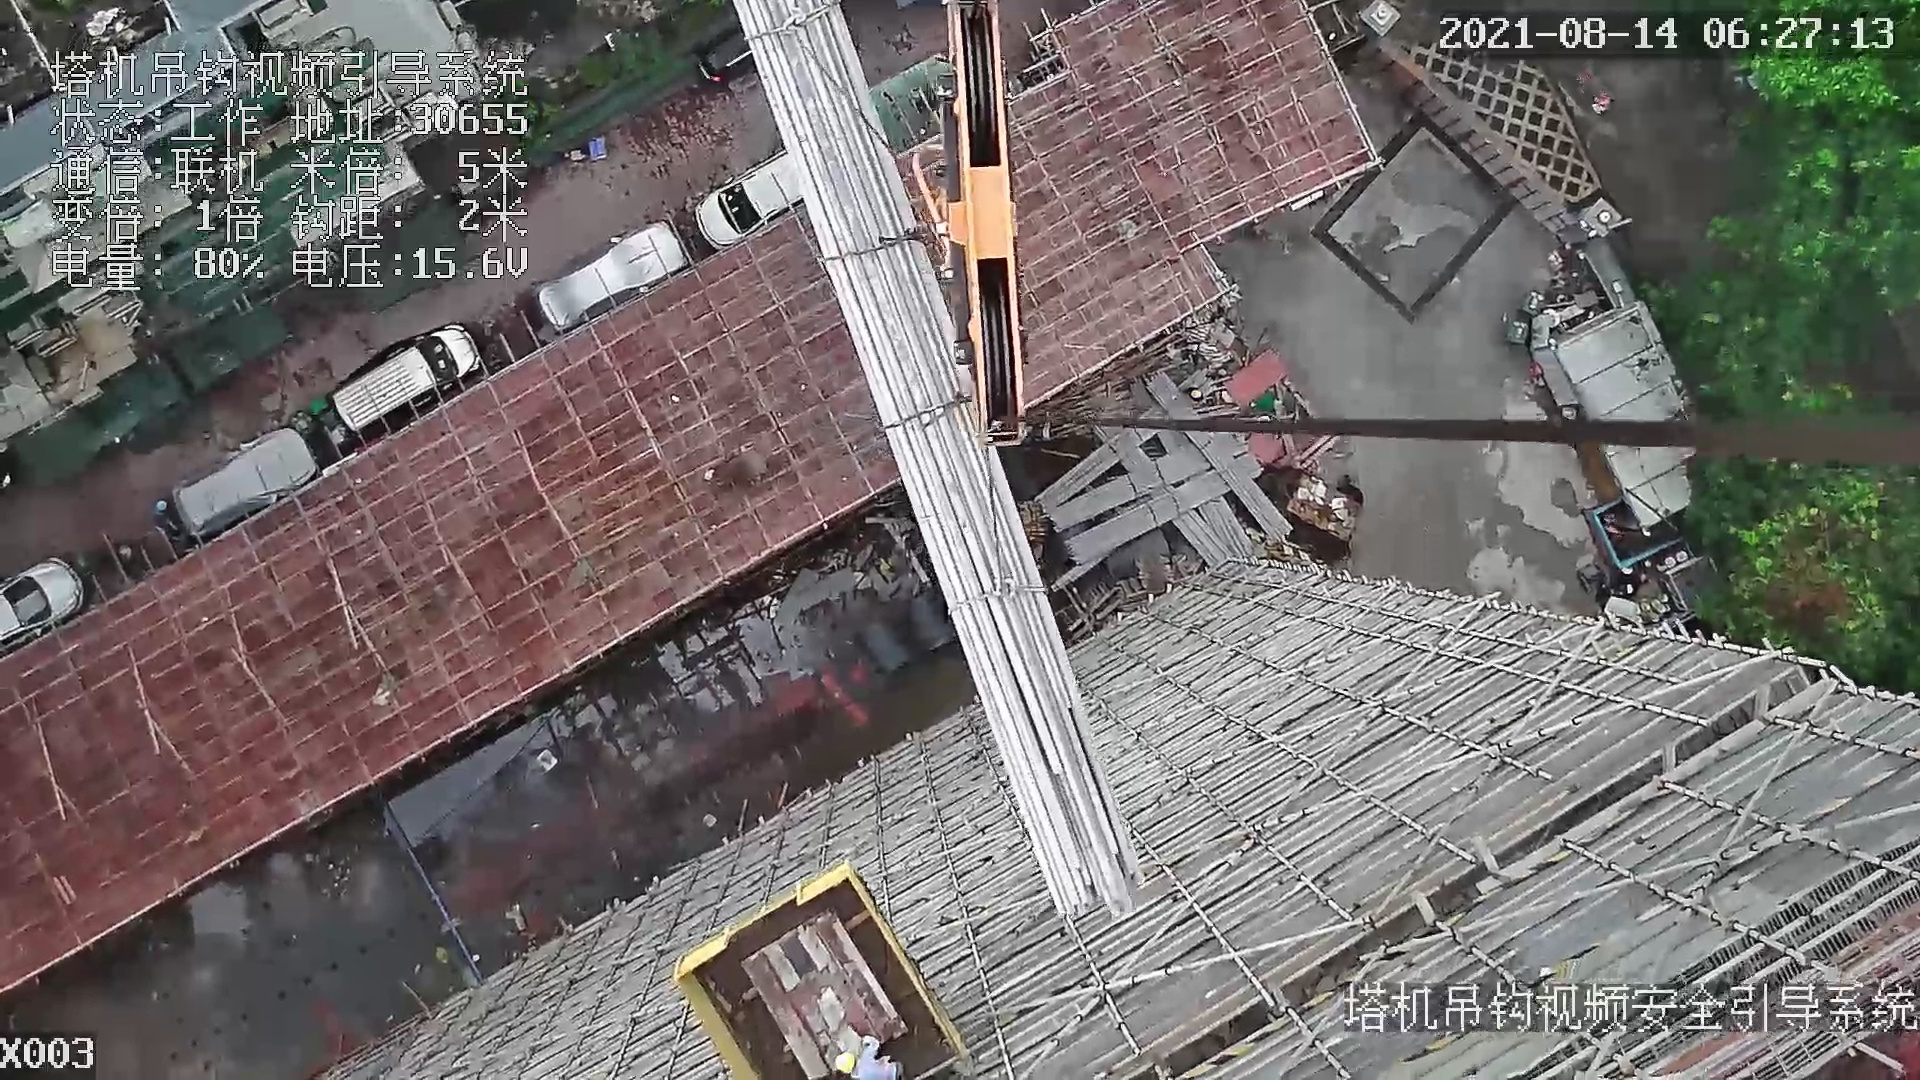helmet: (830, 1040, 862, 1078)
hook: (942, 2, 1036, 453)
person: (833, 1034, 906, 1080)
